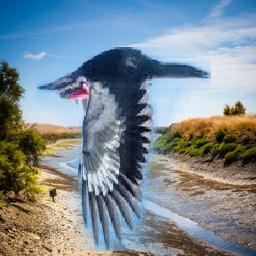Woodpecker: (37, 47, 212, 251)
